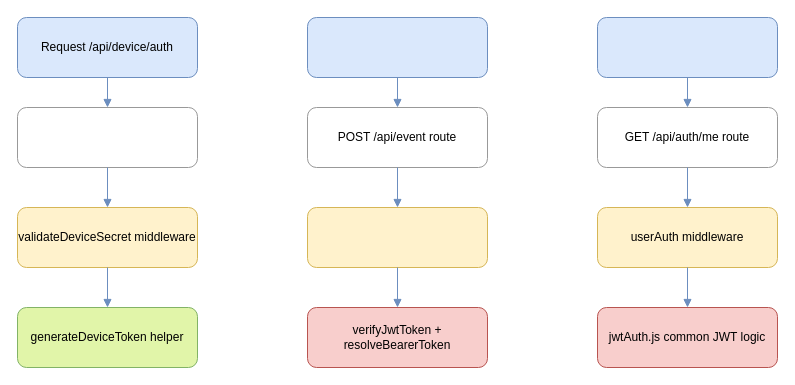
Image size: 795x385. Some labels were removed from this diagram. The box of each missing label's shape, as (x1, y1, x2, y2) in pixels:
deviceAuth middleware: (306, 206, 488, 268)
POST /api/device/auth route: (16, 106, 198, 168)
Request /api/auth/me: (596, 16, 778, 78)
Request /api/event: (306, 16, 488, 78)
